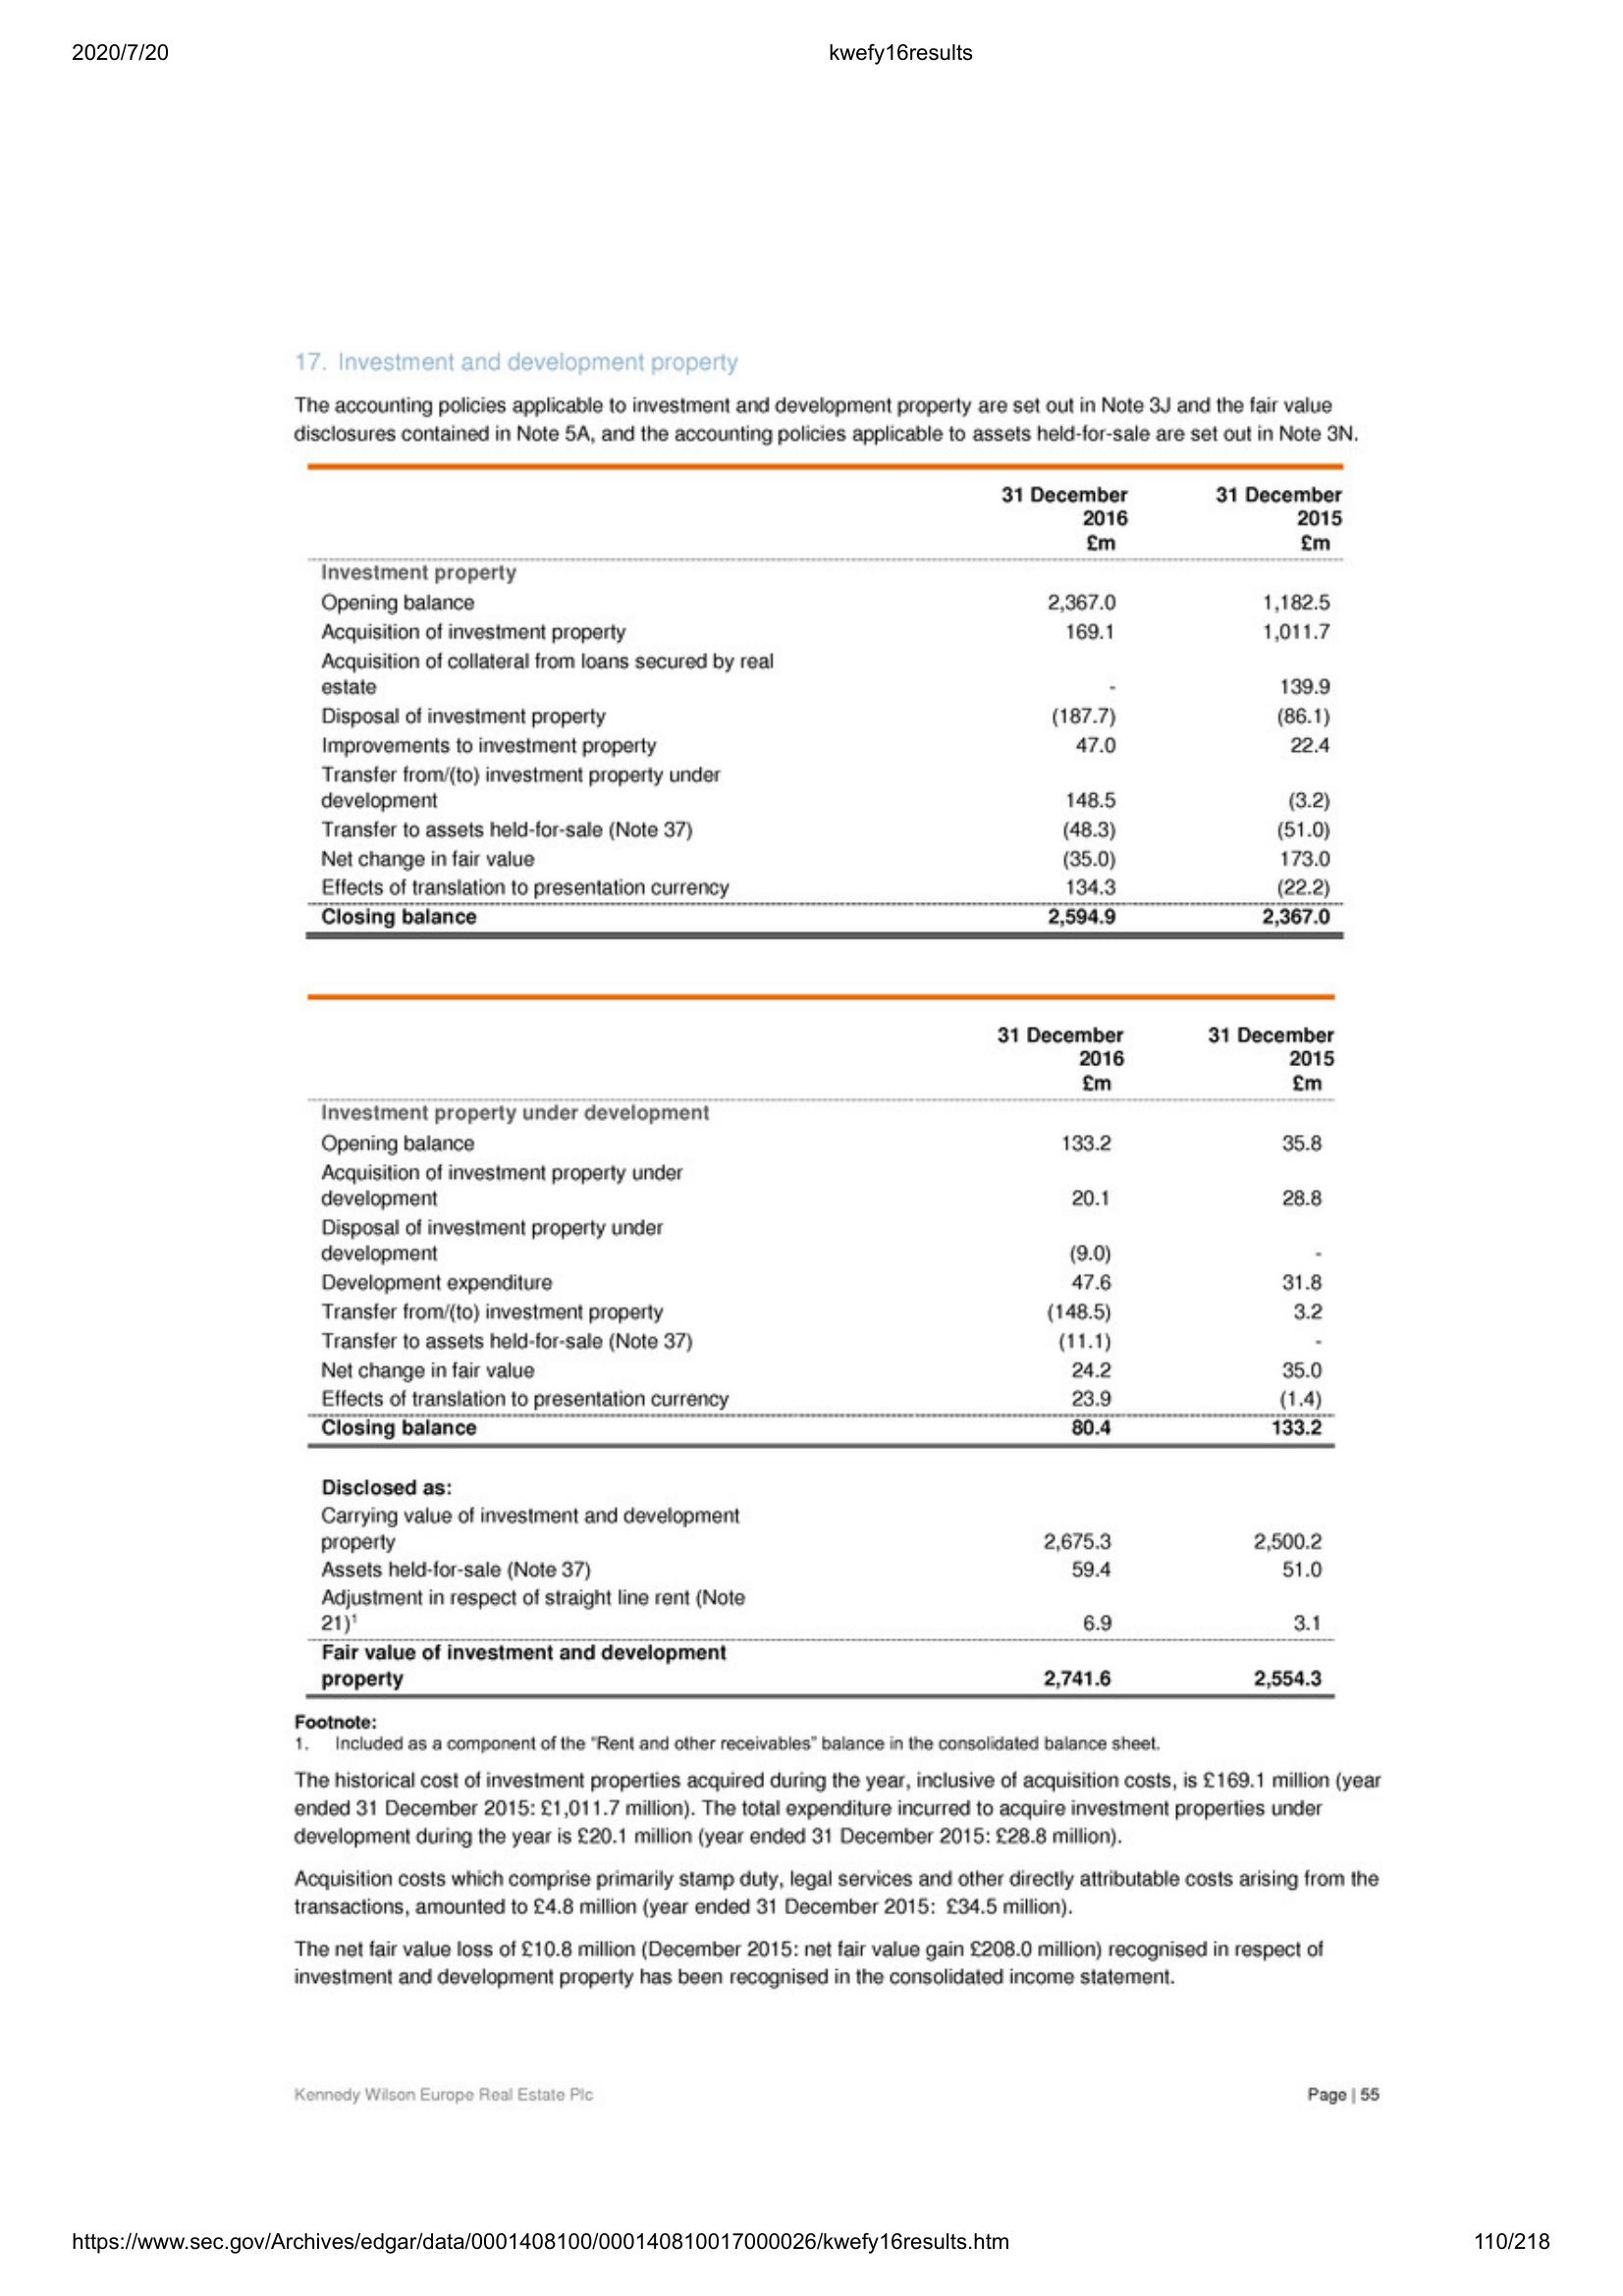table: (281, 983, 1358, 1706), (307, 460, 1351, 951)
